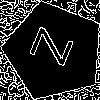Z: (29, 26, 84, 71)
